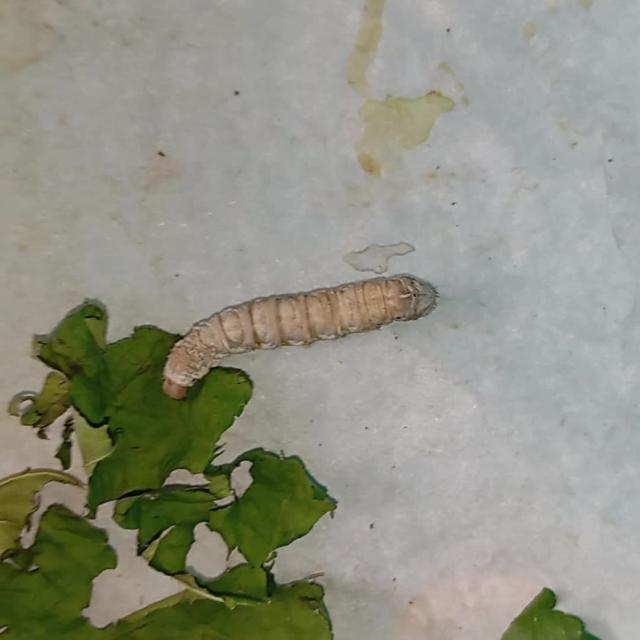Grasserie: (154, 263, 448, 402)
